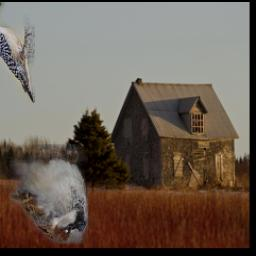Sparrow: (10, 144, 88, 244)
Woodpecker: (0, 2, 35, 103)
